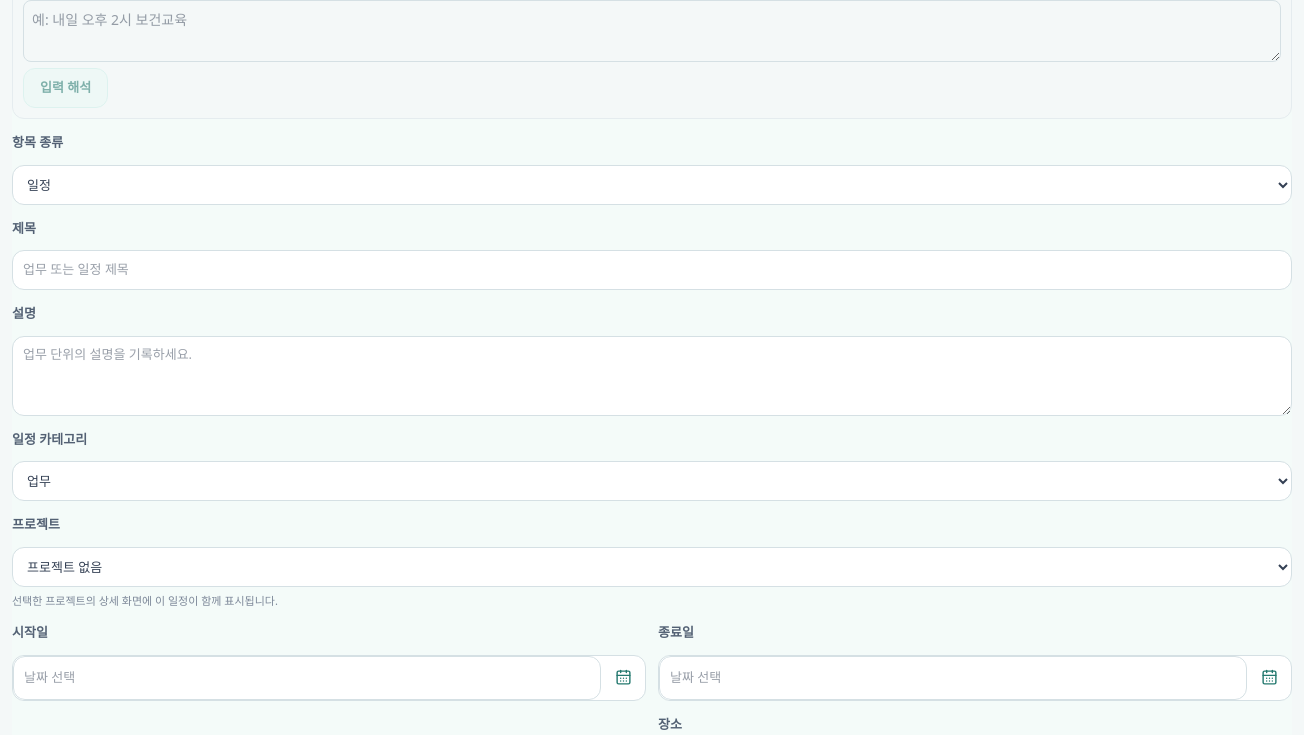
CreateItemForm Phase 5 workflows › shows only the minimal workout plan fields for a workout category
The image size is (1304, 735).
Expected: the field labelled "운동 종류" is not shown
Select "운동" in the dropdown labelled "일정 카테고리" at {"x": 652, "y": 481}, box left=12, top=461, right=1292, bottom=501
(page scrolled)
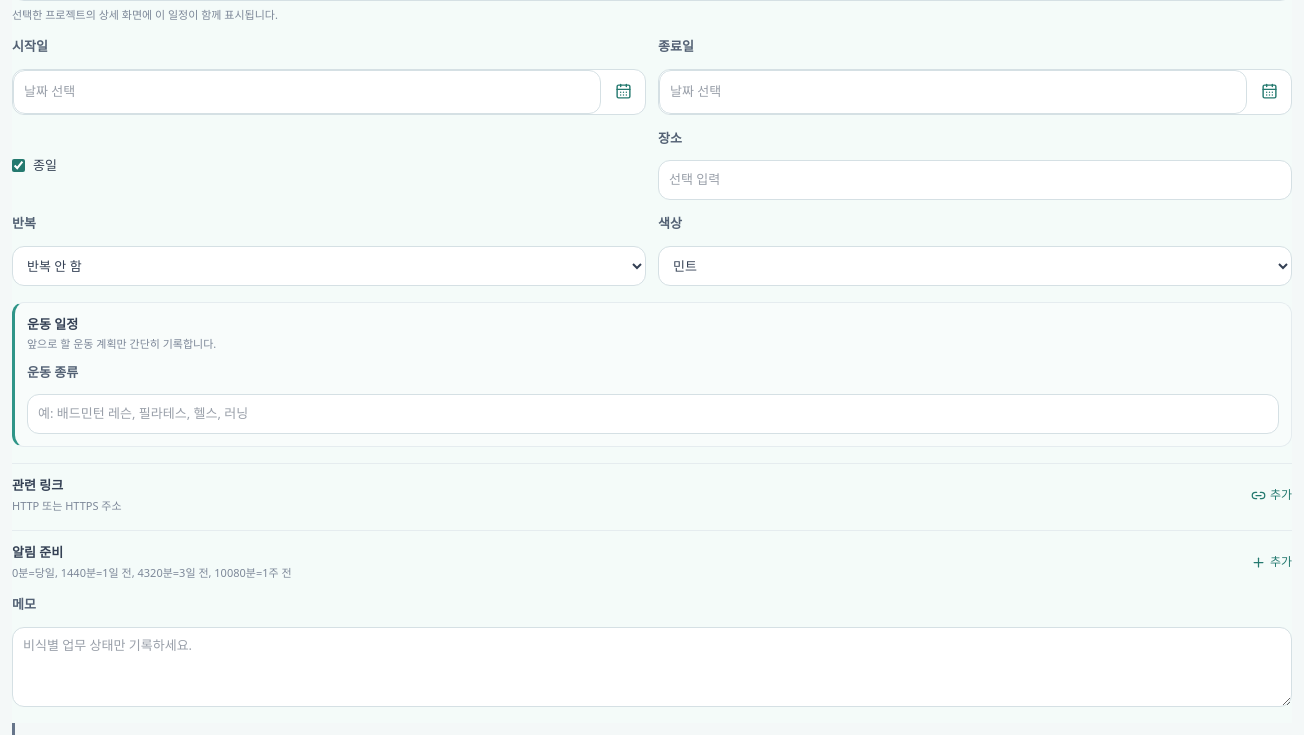
Result: the field labelled "운동 종류" is shown at left=27, top=394, right=1279, bottom=434
